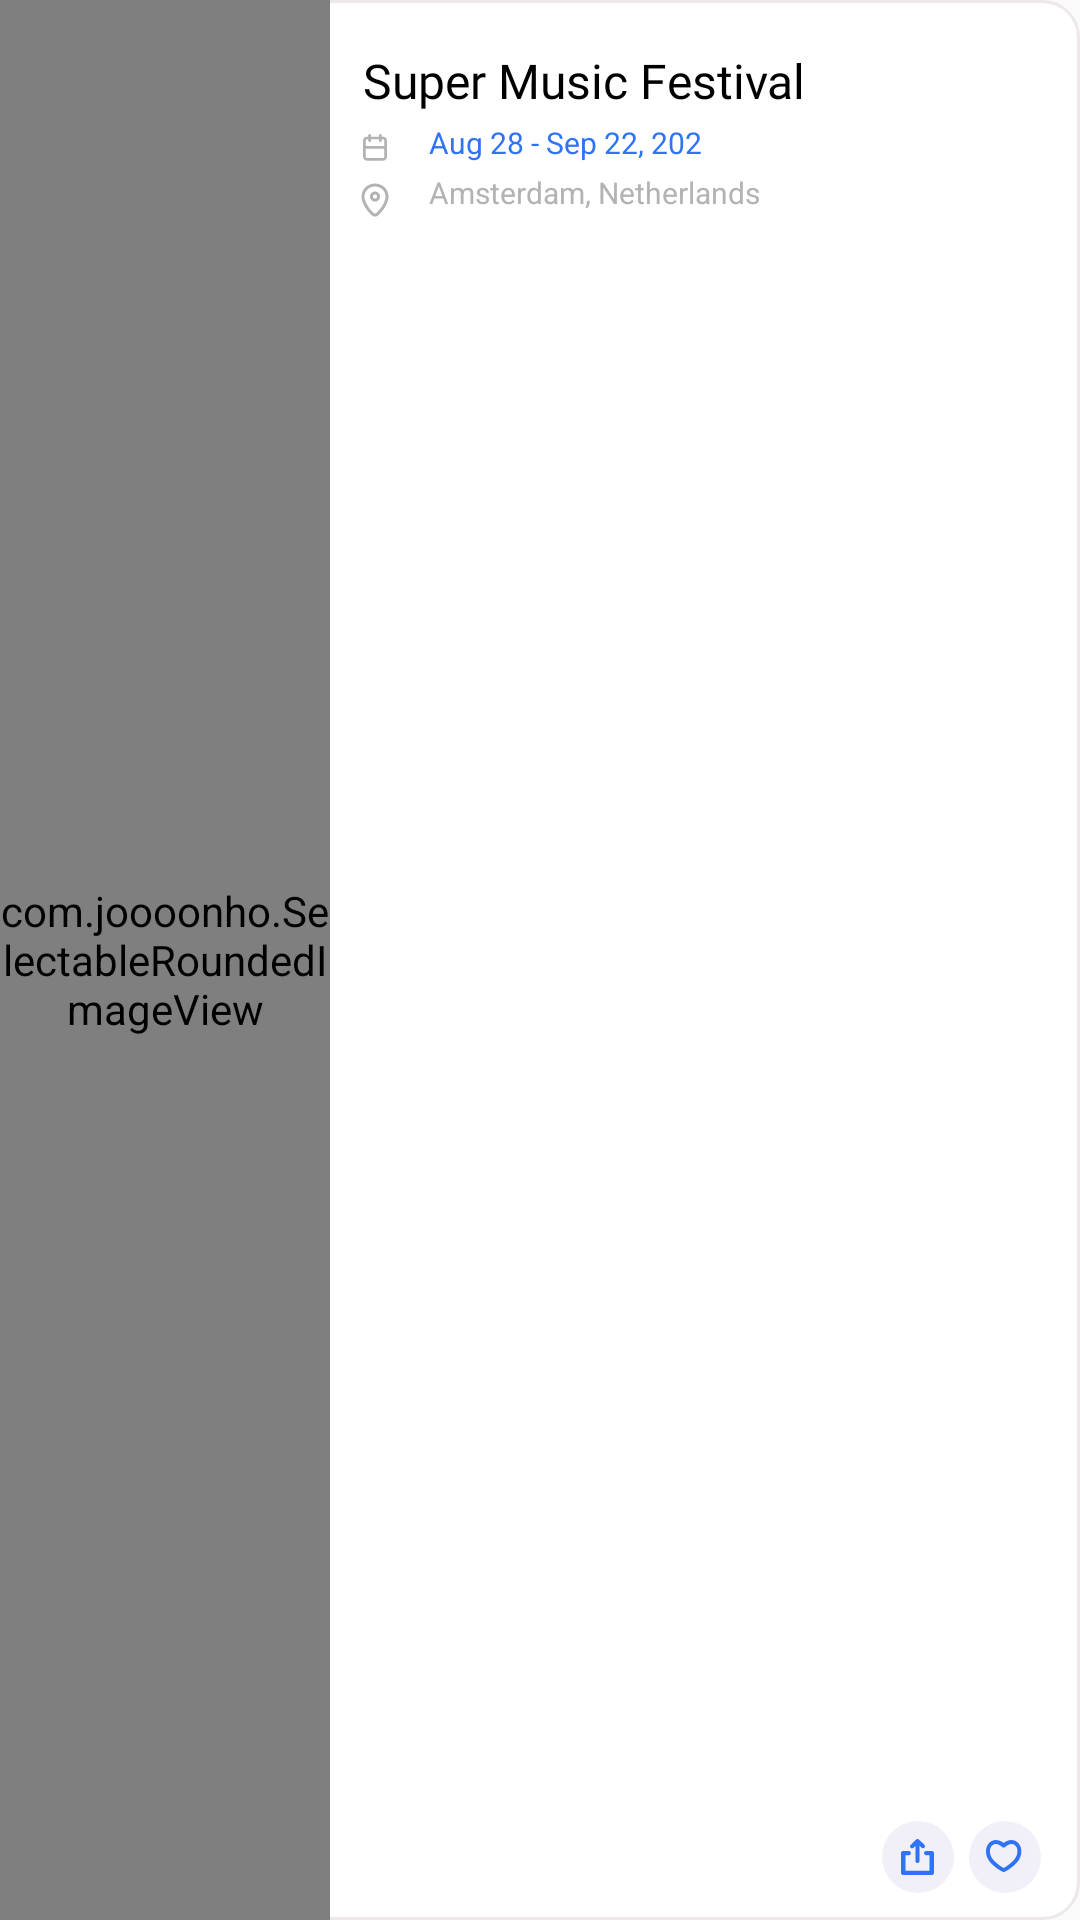

Named icons in this screenshot (1080px×1920px) and their bounding boxes, region(x1, y1, x2, y2):
caledar: region(363, 134, 387, 161)
like: region(986, 1840, 1022, 1872)
location: region(361, 183, 389, 217)
share: region(901, 1839, 934, 1875)
